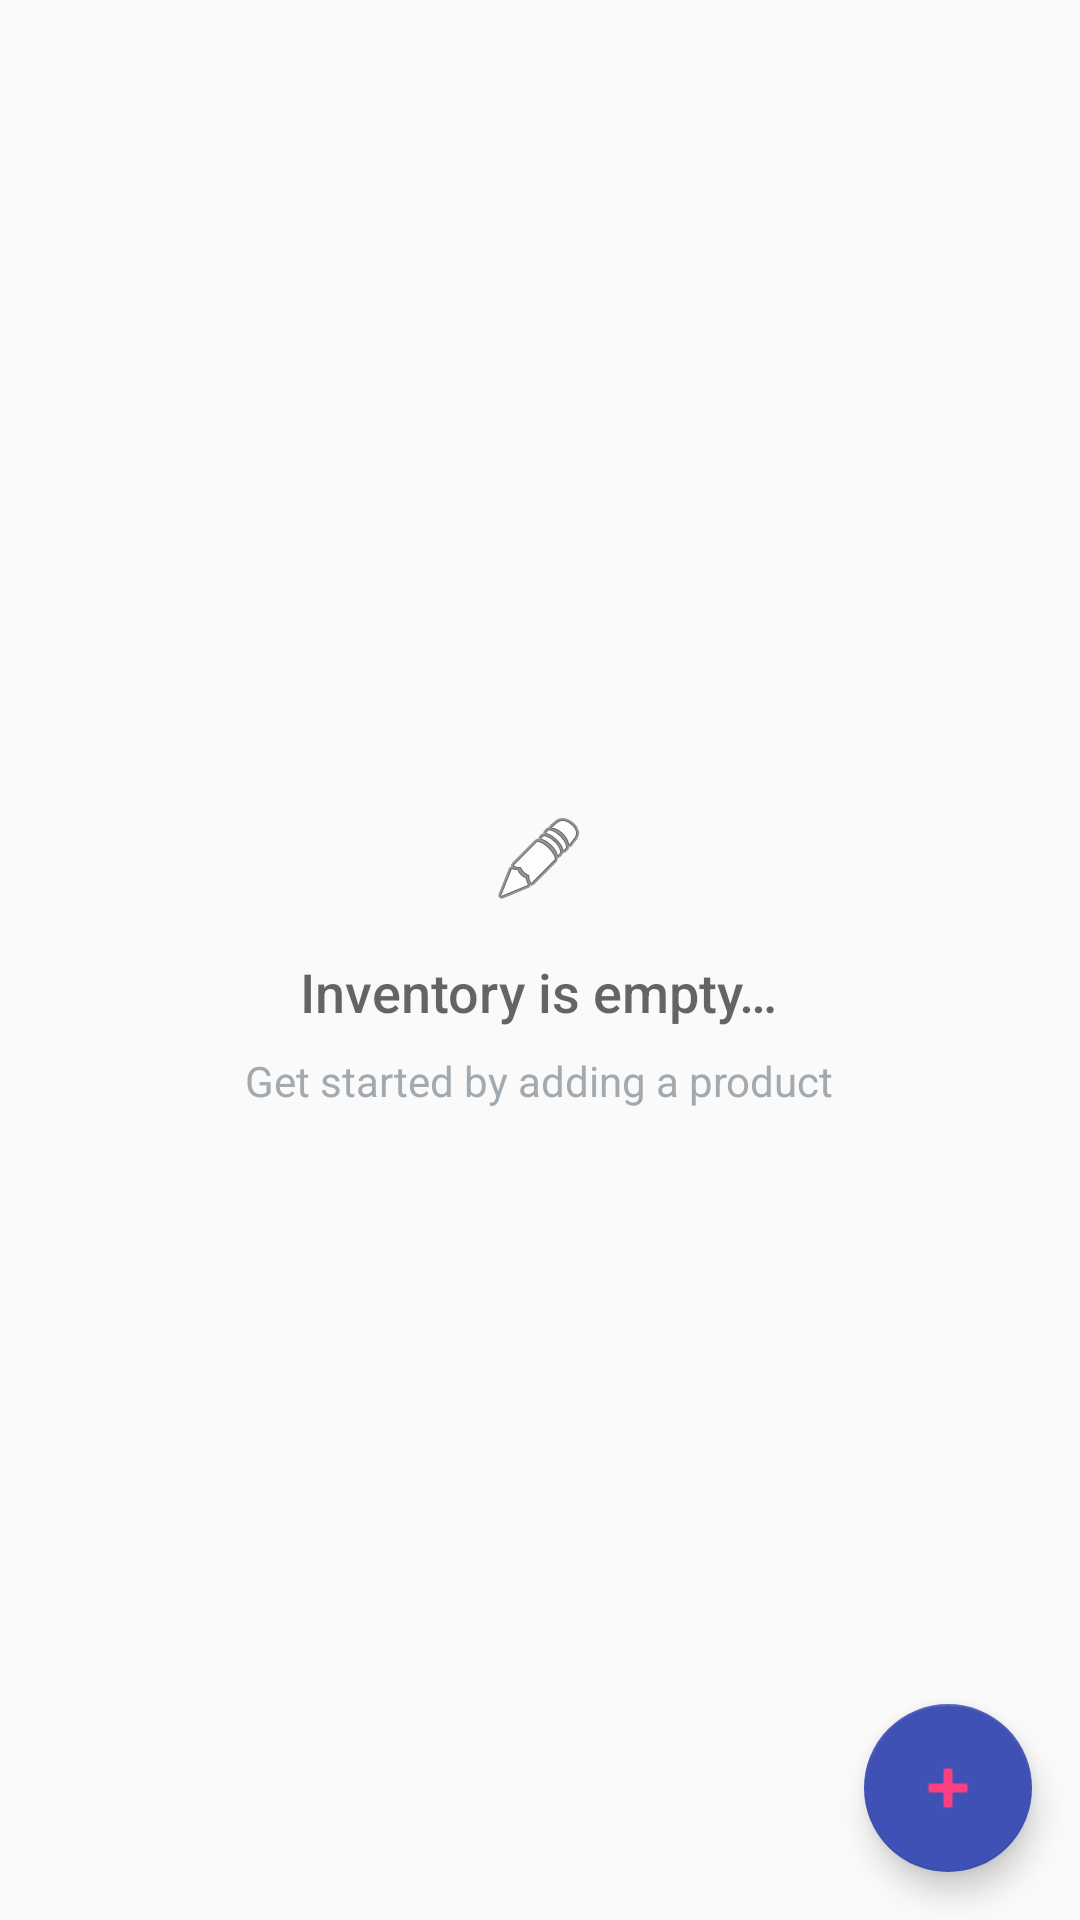

Point at icon controls on the screen. Image size 1080w x 1920h, points as (x=x, y=y).
add: (x=948, y=1788)
edit: (x=538, y=858)
